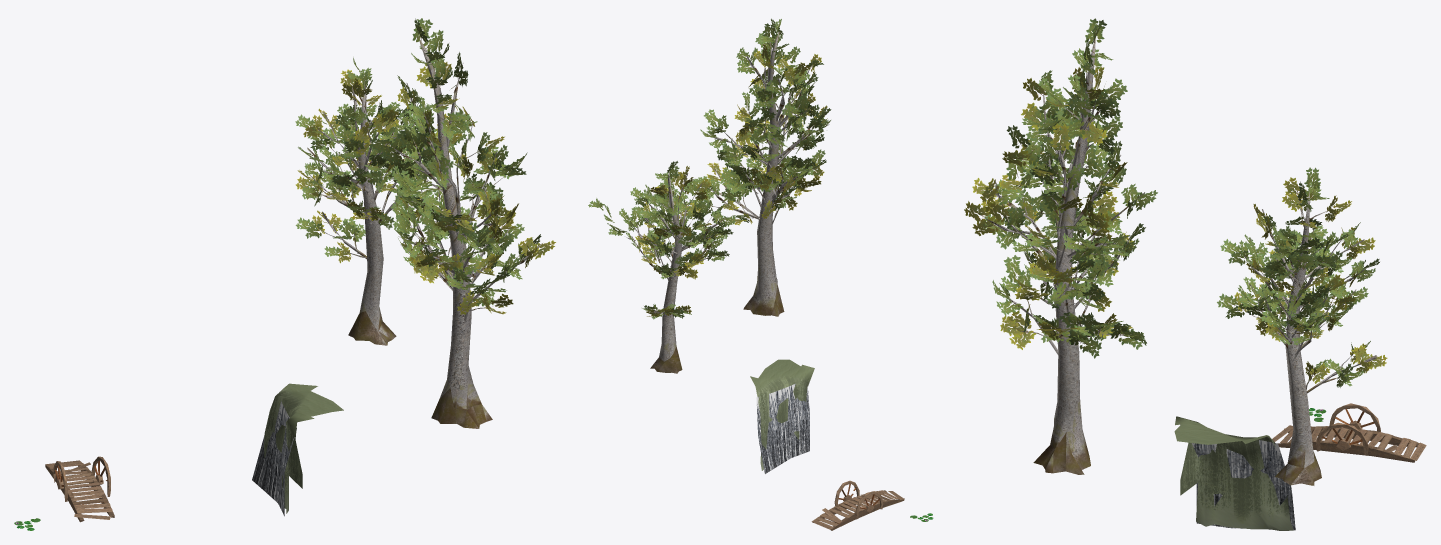
The model's file is trees+bridge.fbx.
3 views of the same model, side by side, from view 1: azimuth 30°, elevation 25°; view 2: azimuth 150°, elevation 25°; view 3: azimuth 270°, elevation 25° (orthographic). The views are drawn at different scales.
Visible parts, largest first — view 1: tree_2_lambert1_0, tree_3_T_TreeStump_0, WATER_tex_waterfall_0, bridge1_T_bridge1_0, waterfall_tex_waterfall_splashes_0; view 2: tree_2_lambert1_0, tree_3_T_TreeStump_0, waterfall_tex_waterfall_splashes_0, WATER_tex_waterfall_0, bridge1_T_bridge1_0; view 3: tree_2_lambert1_0, tree_3_T_TreeStump_0, WATER_tex_waterfall_0, bridge1_T_bridge1_0, waterfall_tex_waterfall_splashes_0.
Part boxes in pixels (x1,y1,x2,y2): tree_2_lambert1_0: [368, 18, 555, 428]; tree_3_T_TreeStump_0: [295, 57, 477, 345]; WATER_tex_waterfall_0: [264, 383, 343, 513]; bridge1_T_bridge1_0: [45, 456, 114, 522]; waterfall_tex_waterfall_splashes_0: [252, 401, 296, 516]; tree_2_lambert1_0: [688, 18, 831, 316]; tree_3_T_TreeStump_0: [588, 161, 735, 373]; waterfall_tex_waterfall_splashes_0: [756, 383, 809, 473]; WATER_tex_waterfall_0: [750, 359, 814, 470]; bridge1_T_bridge1_0: [811, 480, 904, 530]; tree_2_lambert1_0: [964, 18, 1157, 474]; tree_3_T_TreeStump_0: [1217, 167, 1387, 485]; WATER_tex_waterfall_0: [1174, 416, 1293, 530]; bridge1_T_bridge1_0: [1272, 403, 1426, 462]; waterfall_tex_waterfall_splashes_0: [1192, 440, 1295, 530].
Bounding box in the file's own units: 2357 × 2527 × 1919.
